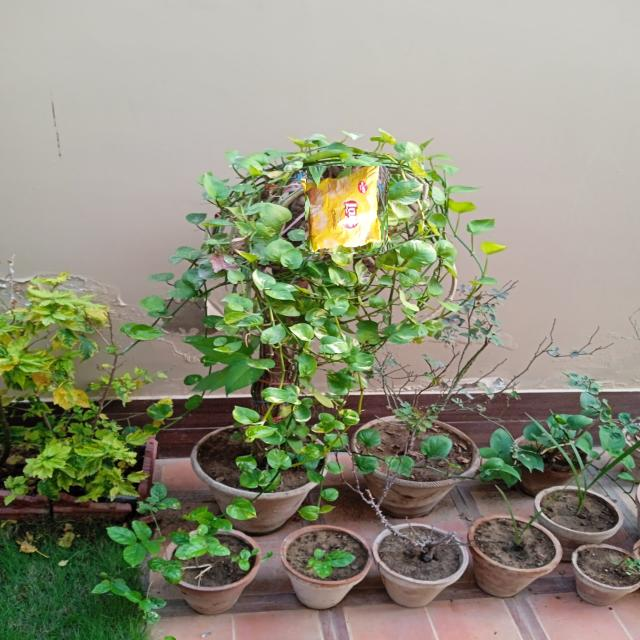Plastic: (305, 168, 390, 252)
